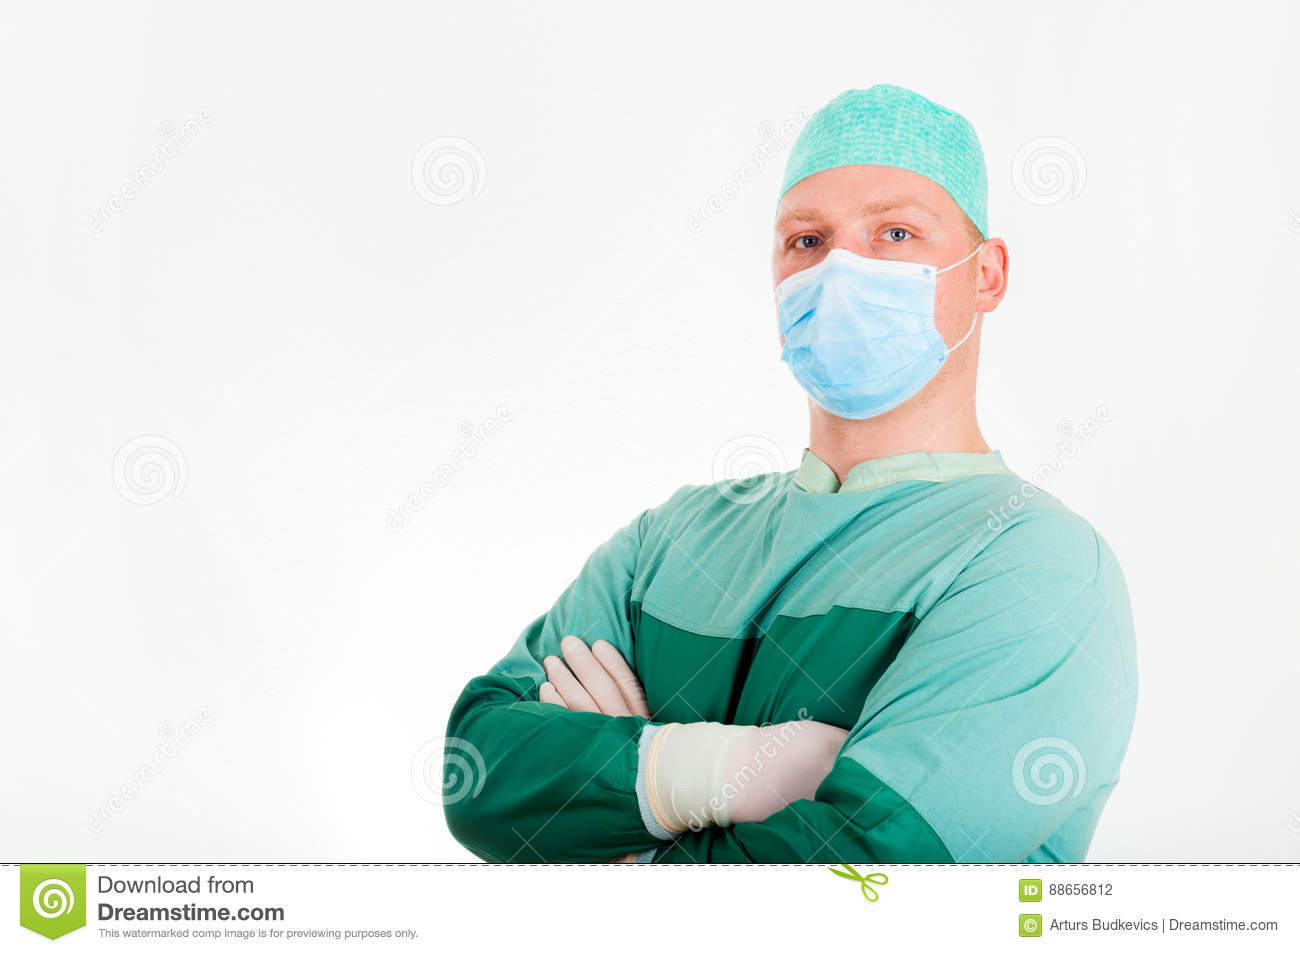mask: (766, 250, 963, 411)
